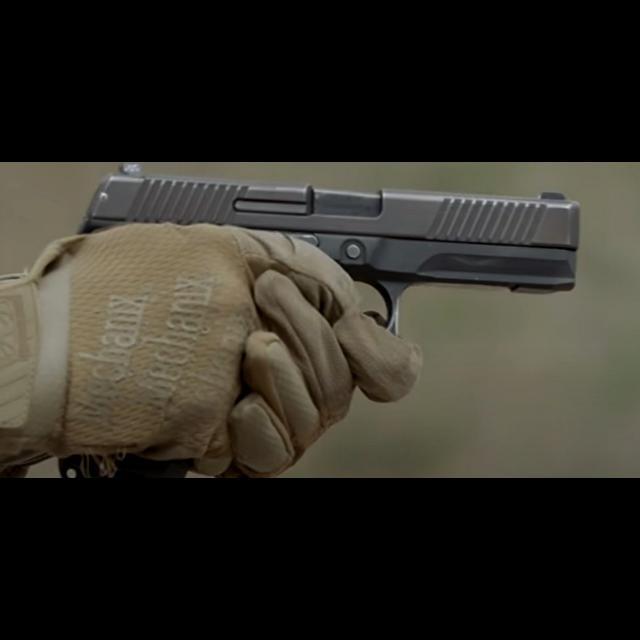handgun: (70, 162, 588, 340)
